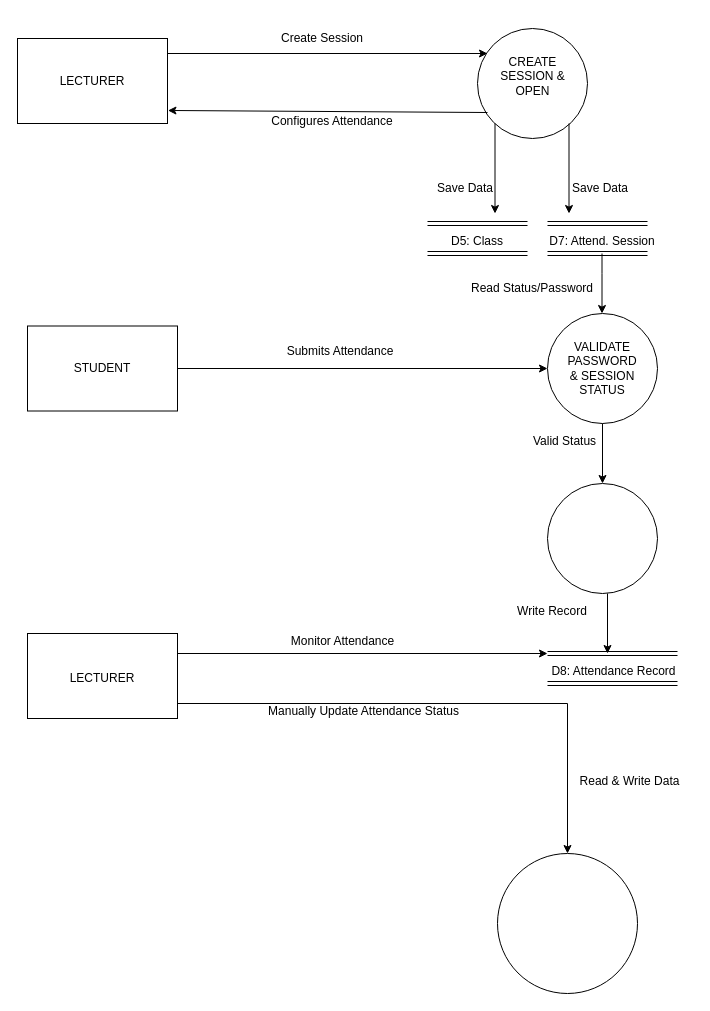
The diagram is 710 pixels wide and 1011 high, and some of its shapes have lost their labels. The shapes that lost their labels are listed below. From the top down, each one's centre as x and y in pixels, then its label:
At (602,538): "CREATE ATTENDANCE RECORD".
At (567,923): "UPDATE ATTENDANCE STATUS/STATISTICS".
